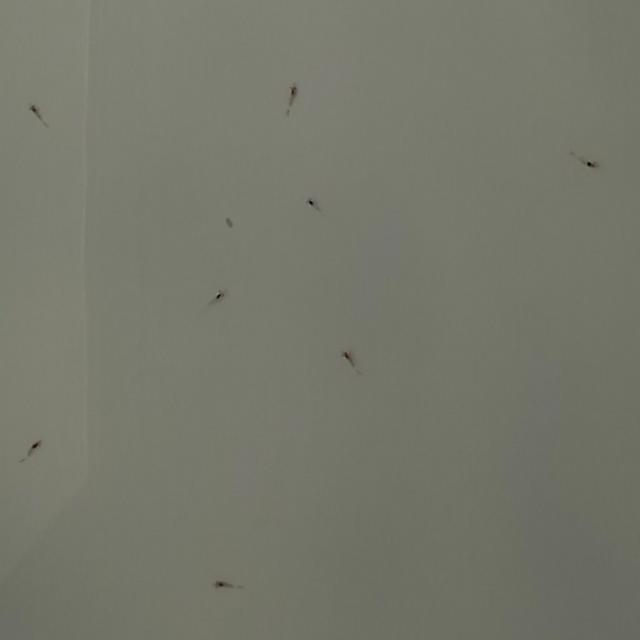shrimp-seed: (212, 574, 234, 594), (210, 284, 230, 304), (284, 81, 302, 102), (340, 348, 357, 368), (26, 101, 43, 119), (28, 438, 44, 456), (582, 156, 600, 171), (304, 195, 318, 208)
